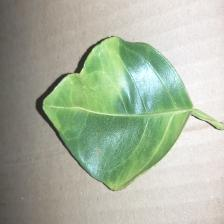greening: (41, 34, 224, 191)
